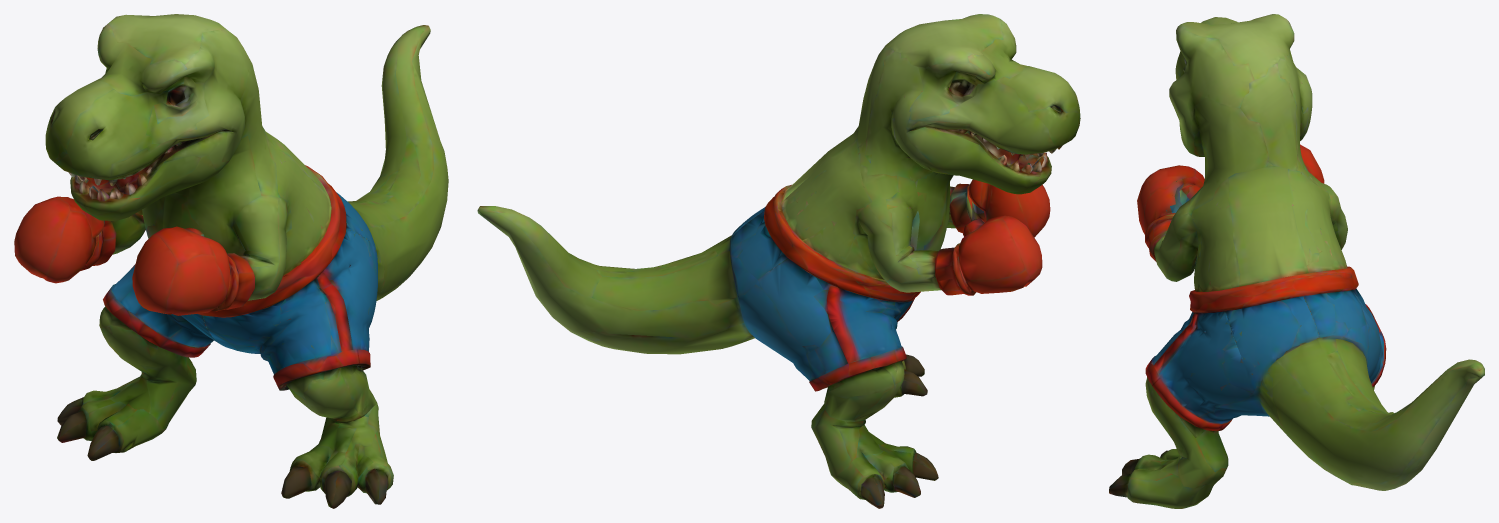
Rendered from dino.glb.
3 renders of one model, left to right at view 1: azimuth 30°, elevation 25°; view 2: azimuth 150°, elevation 25°; view 3: azimuth 270°, elevation 25°, orthographic. The views are drawn at different scales.
Parts seen in each view (by area): view 1: texture_pbr_v128; view 2: texture_pbr_v128; view 3: texture_pbr_v128.
Boxes of the visible parts, box(x1,y1,x2,y2) form: texture_pbr_v128: box(14, 14, 448, 508); texture_pbr_v128: box(477, 14, 1080, 508); texture_pbr_v128: box(1109, 14, 1484, 508).
Size of the model in its own units: 0.9804 by 0.8346 by 0.6888.
1 material, 1 textured.
